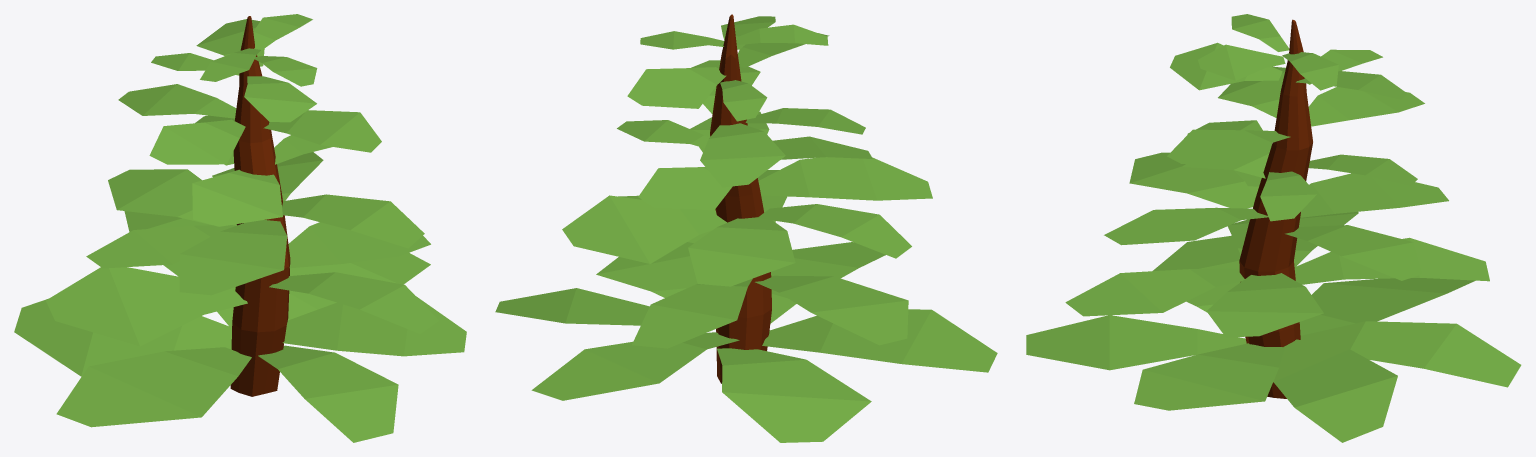
File: Spruce.fbx
The picture shows the model from 3 angles, left to right: view 1: azimuth 30°, elevation 25°; view 2: azimuth 150°, elevation 25°; view 3: azimuth 270°, elevation 25°; orthographic projection.
Visible parts, largest first — view 1: Plane, Cylinder; view 2: Plane, Cylinder; view 3: Plane, Cylinder.
Boxes of the visible parts, x1,y1,x2,y2 form: Plane: [14, 14, 466, 442]; Cylinder: [230, 16, 290, 396]; Plane: [495, 16, 997, 442]; Cylinder: [710, 14, 771, 383]; Plane: [1026, 14, 1521, 442]; Cylinder: [1239, 19, 1312, 398].
Bounding box in the file's own units: 1227 × 999 × 1208.
